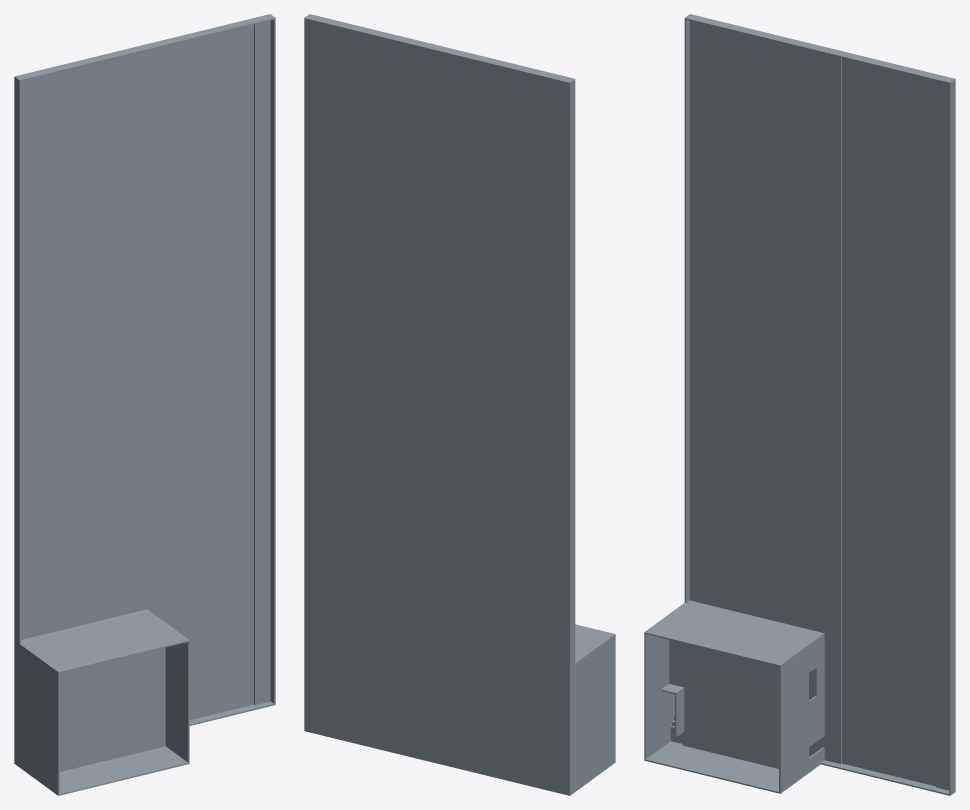
Rendered from CityStreet2.dae.
The picture shows the model from 3 angles, left to right: view 1: azimuth 30°, elevation 25°; view 2: azimuth 150°, elevation 25°; view 3: azimuth 330°, elevation 25°; orthographic projection. The views are drawn at different scales.
Bounding box in the file's own units: 19.5 × 50 × 5.82.
